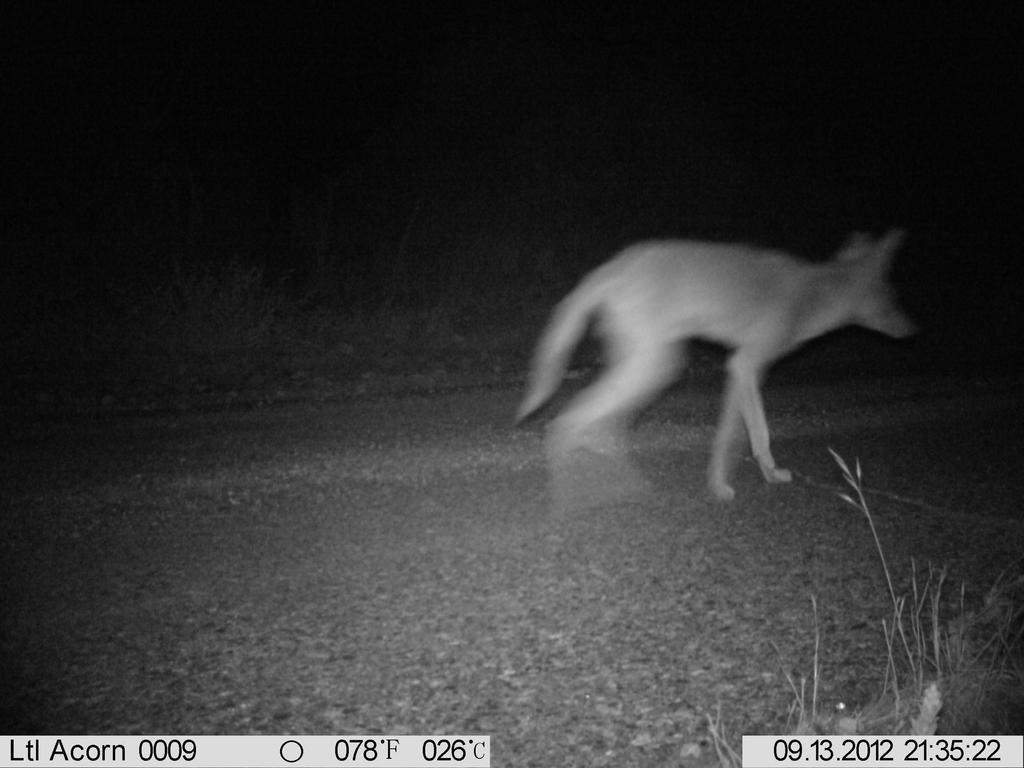coyote: (517, 191, 925, 525)
